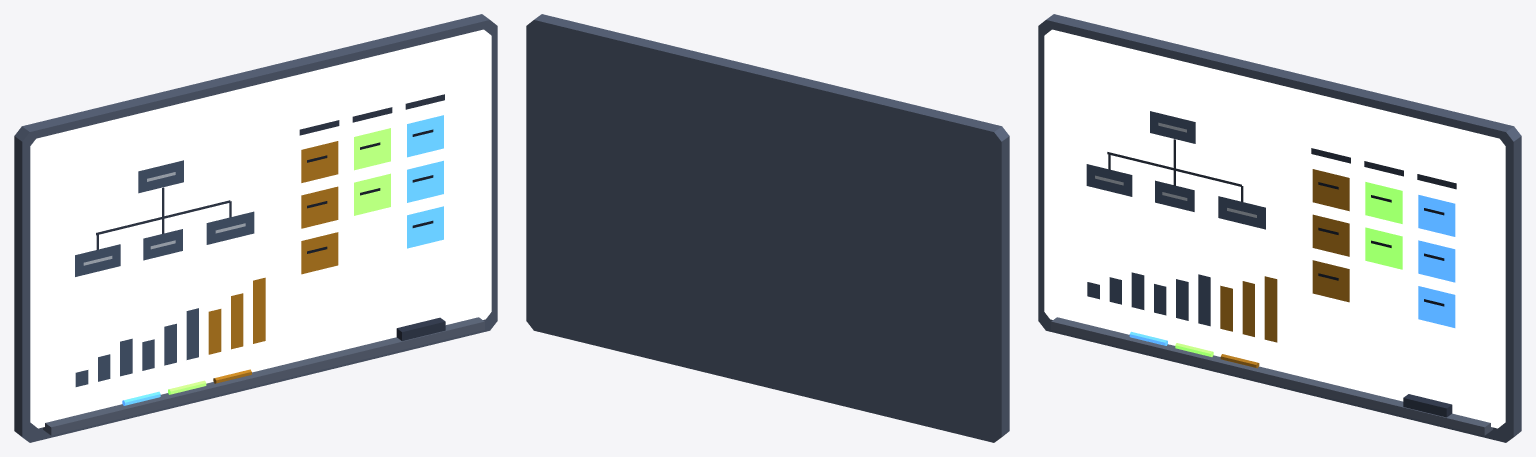
Rendered from off_whiteboard_wall.glb.
The picture shows the model from 3 angles, left to right: view 1: azimuth 30°, elevation 25°; view 2: azimuth 150°, elevation 25°; view 3: azimuth 330°, elevation 25°; orthographic projection.
Visible parts, largest first — view 1: writing_glass, aluminium_frame, chart_bar, chart_bar.006, pen_tray, marker, marker.001, chart_link, pencil; view 2: aluminium_frame; view 3: writing_glass, aluminium_frame, chart_bar, chart_bar.006, pen_tray, marker, marker.001, chart_link, pencil.
Boxes of the visible parts, x1,y1,x2,y2 form: writing_glass: (30,29,491,428); aluminium_frame: (14,14,497,442); chart_bar: (75,160,254,386); chart_bar.006: (208,141,338,383); pen_tray: (43,317,484,435); marker: (122,115,443,405); marker.001: (168,128,390,394); chart_link: (96,94,445,340); pencil: (307,129,433,253); aluminium_frame: (526,14,1009,442); writing_glass: (1044,29,1505,428); aluminium_frame: (1038,14,1521,442); chart_bar: (1086,111,1265,326); chart_bar.006: (1220,169,1349,368); pen_tray: (1051,317,1492,435); marker: (1129,195,1455,345); marker.001: (1175,182,1402,356); chart_link: (1107,139,1456,417); pencil: (1318,182,1444,306).
Size of the model in its own units: 2.4 by 1.5 by 0.14.
